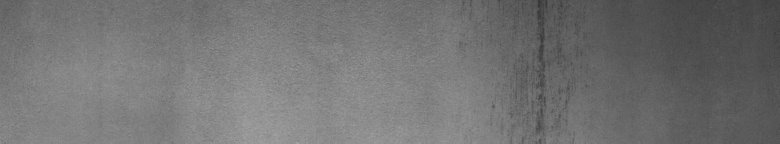ka: (492, 4, 572, 136)
